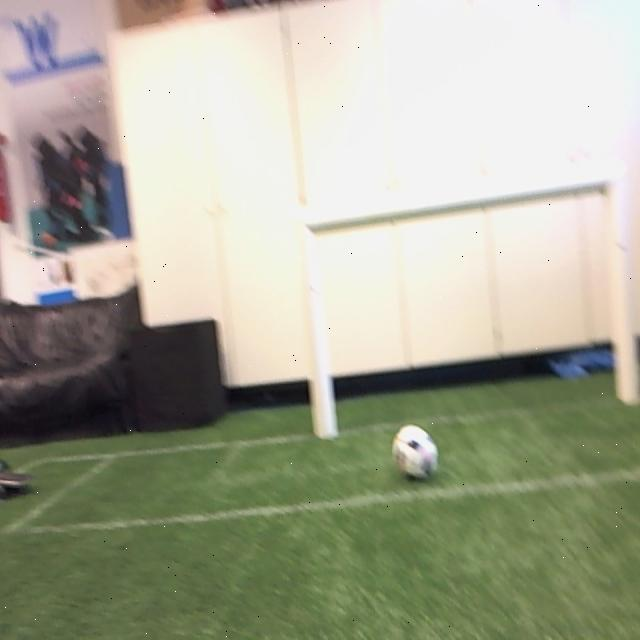ball: (393, 426, 439, 479)
goalpost: (297, 218, 338, 436), (604, 166, 639, 402)
